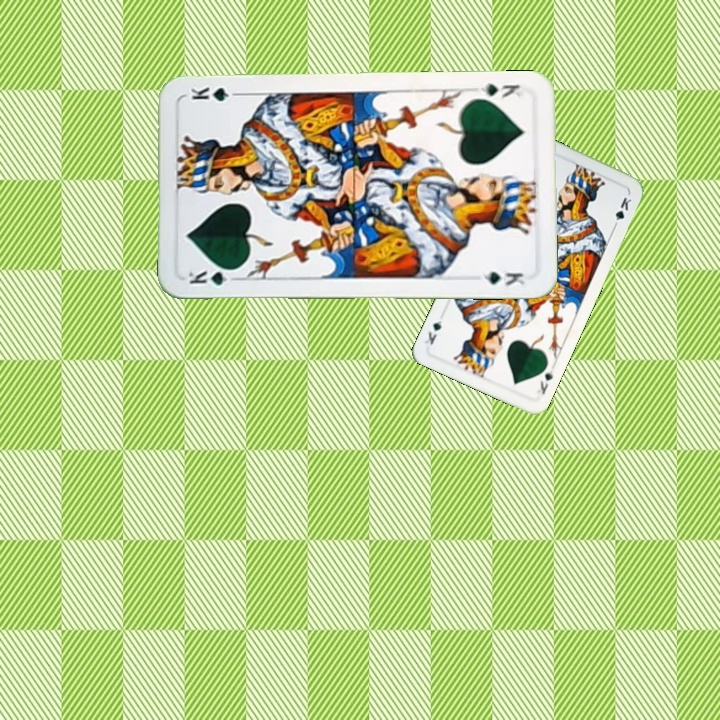GK: (184, 265, 241, 288), (472, 80, 528, 102), (532, 362, 557, 397)
